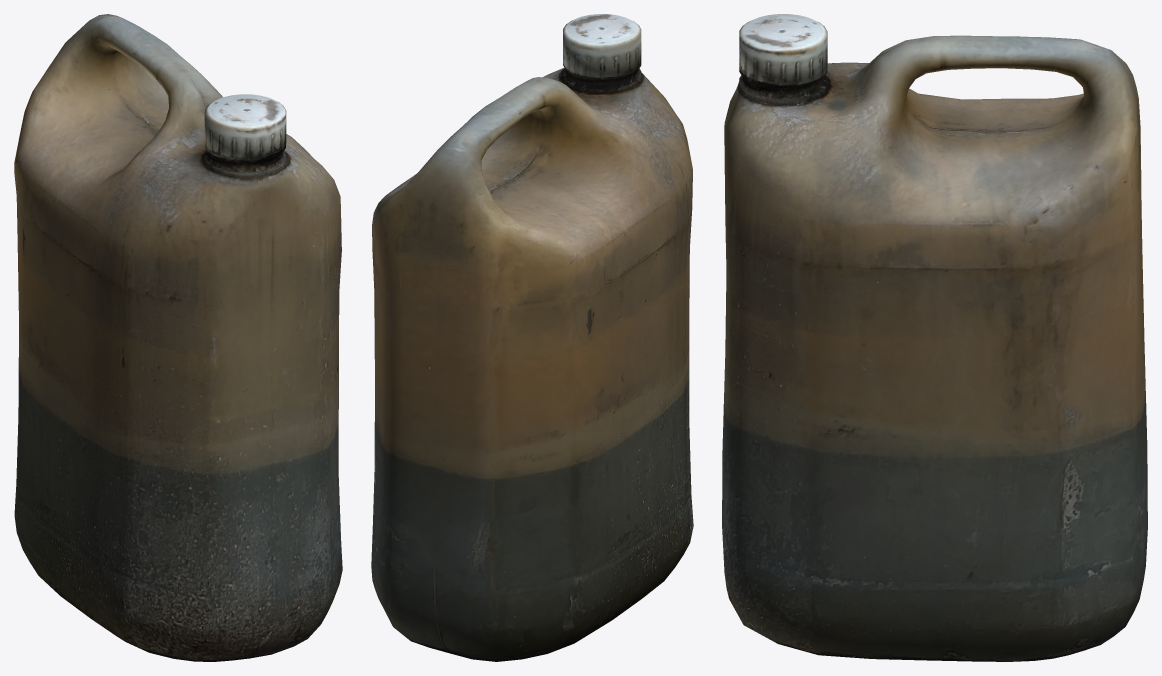
The model's file is remake_-_motor_oil_bottle_gallon.glb.
3 renders of one model, left to right at view 1: azimuth 30°, elevation 25°; view 2: azimuth 150°, elevation 25°; view 3: azimuth 270°, elevation 25°, orthographic. The views are drawn at different scales.
Visible parts, largest first — view 1: model_diffuse-material; view 2: model_diffuse-material; view 3: model_diffuse-material.
Boxes of the visible parts, left/top/right/bottom form: model_diffuse-material: left=14, top=14, right=342, bottom=661; model_diffuse-material: left=371, top=14, right=693, bottom=661; model_diffuse-material: left=722, top=14, right=1147, bottom=661.
Bounding box in the file's own units: 0.1334 × 0.2932 × 0.1949.
Materials: 1 (1 with a texture image).
